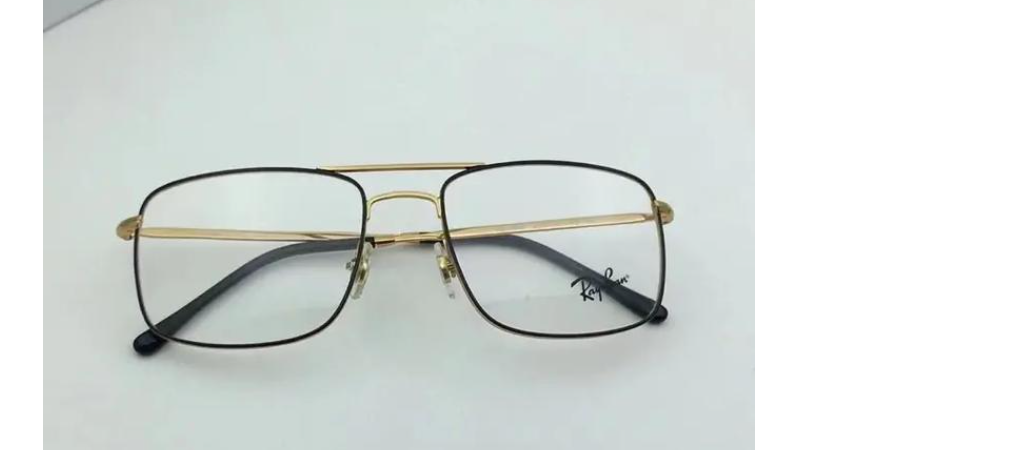glass: (110, 151, 686, 366)
